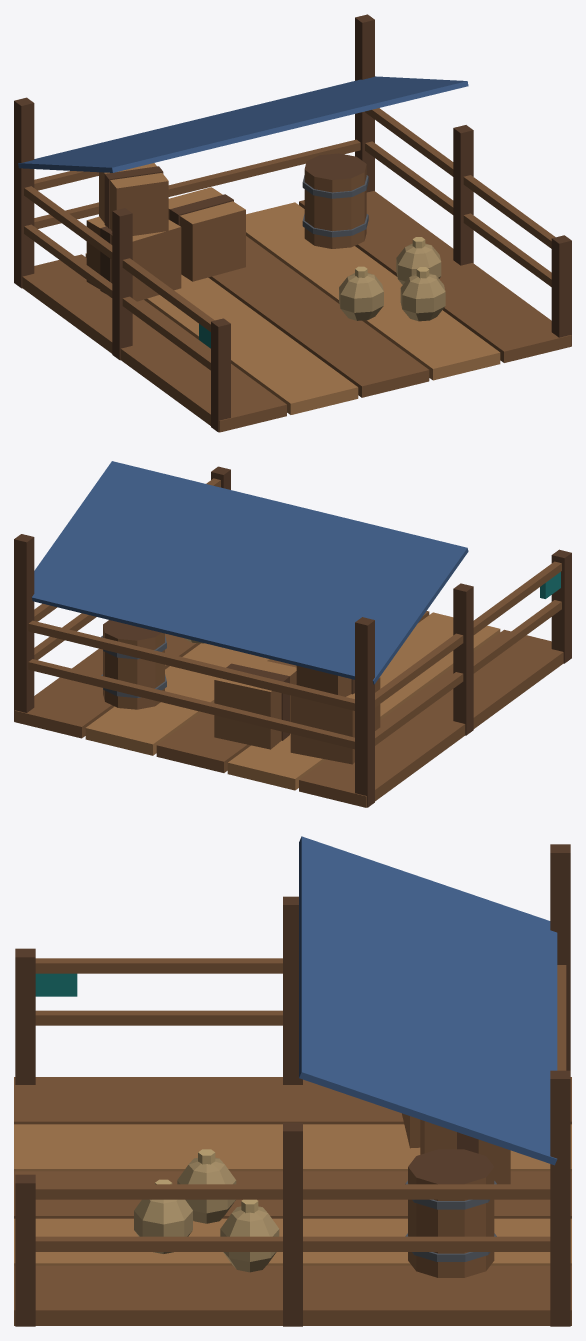
The model's file is bld_stockpile_2x2.glb.
The picture shows the model from 3 angles, top to bottom: view 1: azimuth 30°, elevation 25°; view 2: azimuth 150°, elevation 25°; view 3: azimuth 270°, elevation 25°; orthographic projection. The views are drawn at different scales.
Parts seen in each view (by area): view 1: bld_stockpile_2x22; view 2: bld_stockpile_2x22; view 3: bld_stockpile_2x22.
Boxes of the visible parts, x1,y1,x2,y2 form: bld_stockpile_2x22: (14,14,571,432); bld_stockpile_2x22: (14,461,571,807); bld_stockpile_2x22: (14,836,571,1326).
Size of the model in its own units: 1.94 by 0.979 by 1.94.
1 material, 1 textured.
